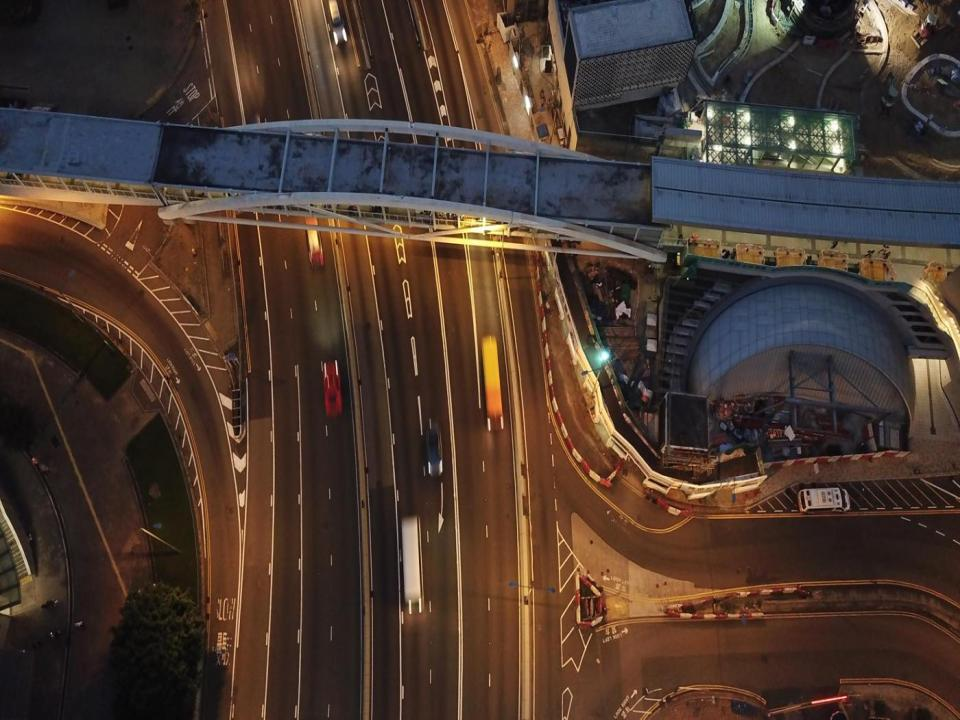bus: (400, 516, 424, 614), (481, 336, 504, 430)
car: (301, 207, 324, 267), (323, 362, 341, 416), (327, 0, 347, 45), (426, 427, 443, 478)
van: (798, 488, 850, 513)
